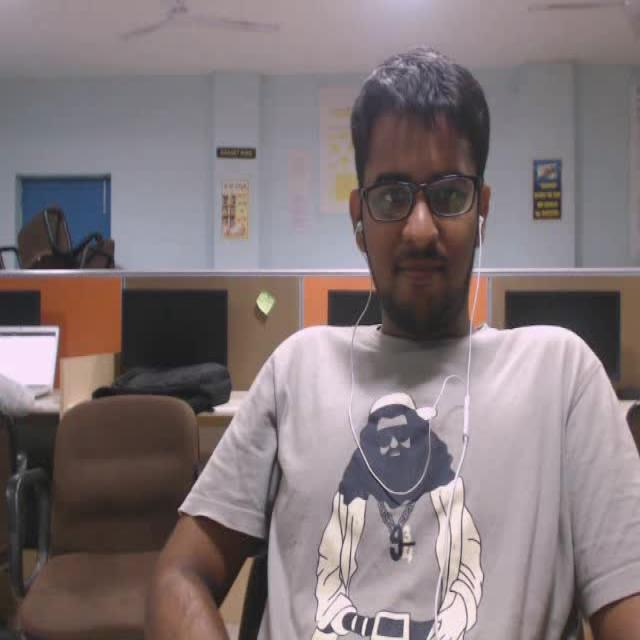Engaged: (331, 19, 522, 381)
